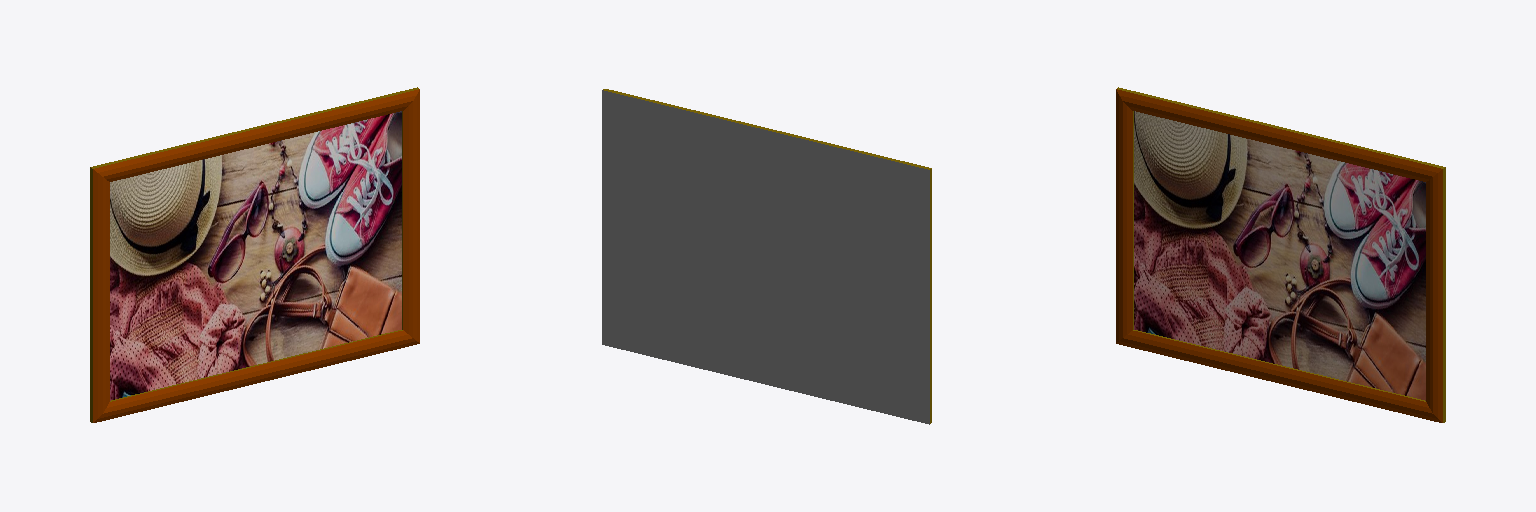
3 renders of one model, left to right at view 1: azimuth 30°, elevation 25°; view 2: azimuth 150°, elevation 25°; view 3: azimuth 330°, elevation 25°, orthographic.
Parts seen in each view (by area): view 1: october_painting1; view 2: october_painting1; view 3: october_painting1.
Boxes of the visible parts, x1=… form: october_painting1: x1=90, y1=87, x2=419, y2=422; october_painting1: x1=602, y1=89, x2=931, y2=424; october_painting1: x1=1116, y1=87, x2=1445, y2=422.
Size of the model in its own units: 0.78 by 0.58 by 0.0161.
Materials: 4 (1 with a texture image).